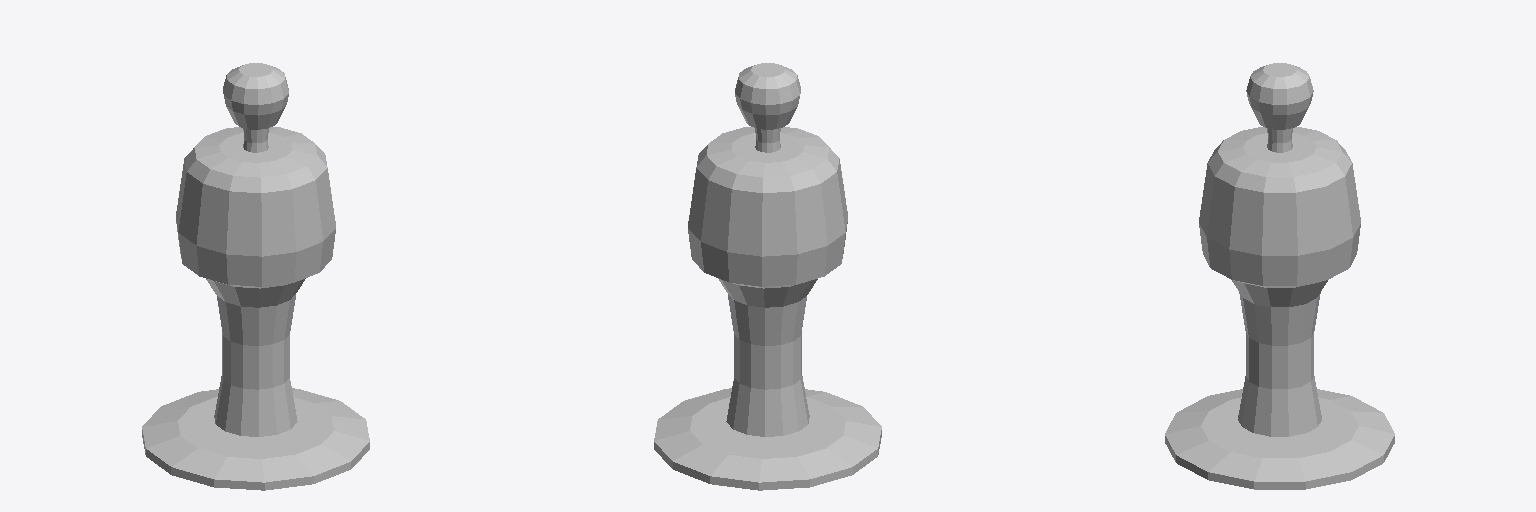
Rendered from human-short_004.obj.
The picture shows the model from 3 angles: view 1: azimuth 30°, elevation 25°; view 2: azimuth 150°, elevation 25°; view 3: azimuth 270°, elevation 25°; orthographic projection.
Parts seen in each view (by area): view 1: human-short.004; view 2: human-short.004; view 3: human-short.004.
Boxes of the visible parts, <box> form: human-short.004: <box>142,63,369,490</box>; human-short.004: <box>654,63,881,490</box>; human-short.004: <box>1165,63,1394,489</box>.
Size of the model in its own units: 0.85 by 1.55 by 0.8719.